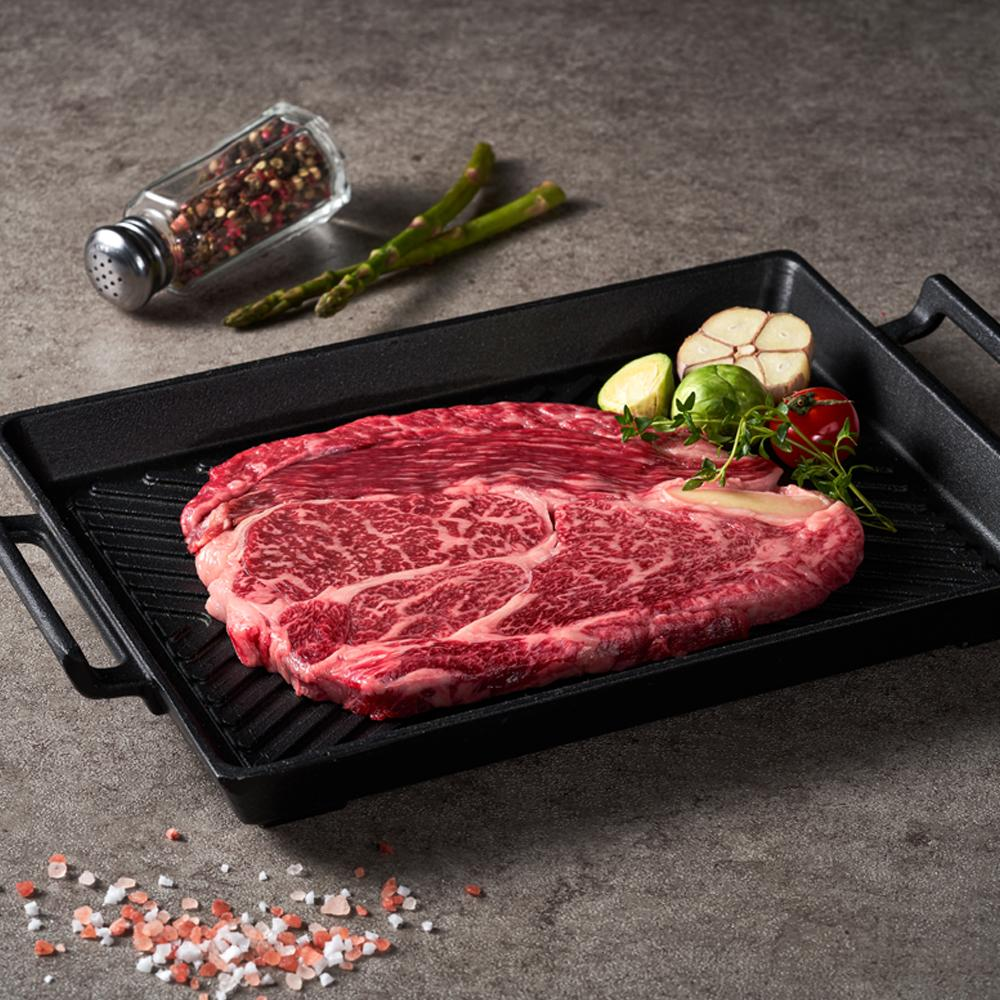beef: (344, 711, 939, 1000)
